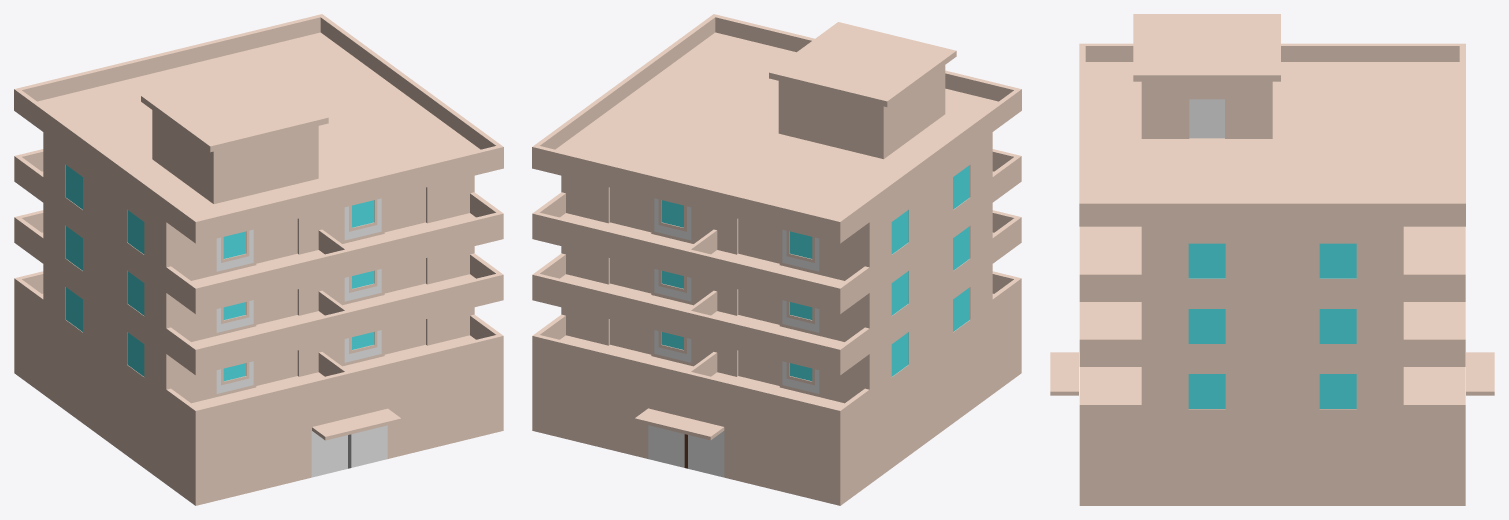
File: building1.fbx
3 renders of one model, left to right at view 1: azimuth 30°, elevation 25°; view 2: azimuth 150°, elevation 25°; view 3: azimuth 270°, elevation 25°, orthographic. The views are drawn at different scales.
Visible parts, largest first — view 1: Cube.004; view 2: Cube.004; view 3: Cube.004.
Boxes of the visible parts, bbox=[...] form: Cube.004: bbox=[14, 14, 503, 505]; Cube.004: bbox=[532, 14, 1021, 505]; Cube.004: bbox=[1050, 14, 1494, 505].
Size of the model in its own units: 11.99 by 14.06 by 12.32.
Materials: 1 (1 with a texture image).
